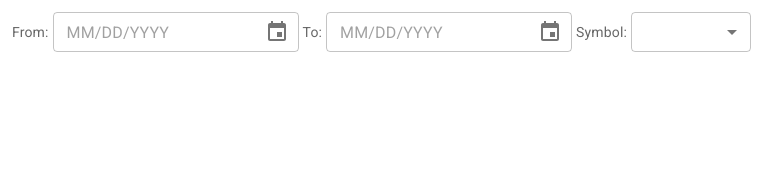
Scenario: HistoryFilters › renders symbol select with clearable and 'All' option
This screenshot has width=774, height=172.
Click the dropdown at (691, 32), box [631, 12, 751, 52]
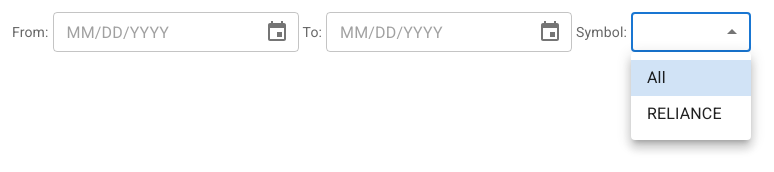
expect the option "All" is shown: met, box [631, 60, 751, 96]
